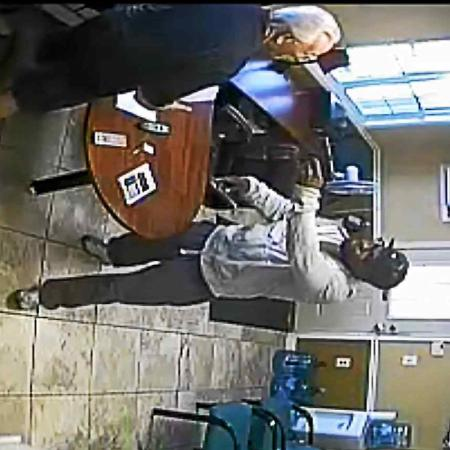Pistol: (297, 136, 337, 180)
